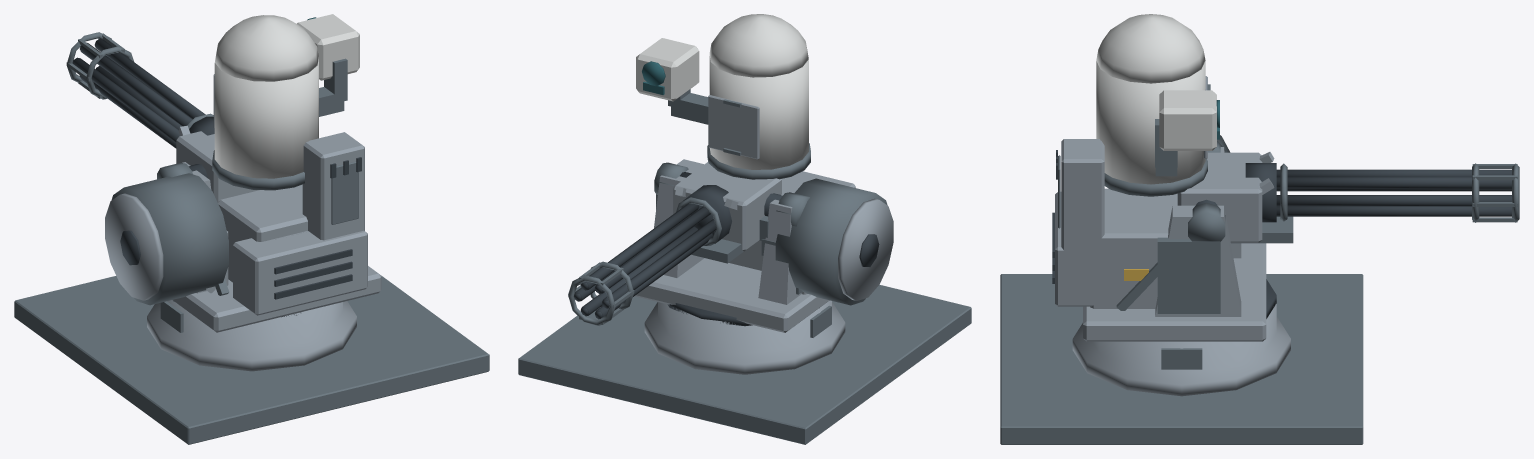
The model's file is MOD_CIWS_U2.fbx.
3 renders of one model, left to right at view 1: azimuth 30°, elevation 25°; view 2: azimuth 150°, elevation 25°; view 3: azimuth 270°, elevation 25°, orthographic. The views are drawn at different scales.
Visible parts, largest first — view 1: MOD_CIWS_U2_Root_Visual_Deck_Grey, TurretPivot_Visual_Naval_Blue_Grey, ElevationPivot_Visual_Medical_White, TurretPivot_Visual_Deck_Grey, CIWSFixedDeckPedestal, BarrelCluster_Visual_Gunmetal, TurretPivot_Visual_Gunmetal, ElevationPivot_Visual_Deck_Grey, ElevationPivot_Visual_Naval_Blue_Grey, BarrelCluster_Visual_Deck_Grey, ElevationPivot_Visual_Gunmetal; view 2: MOD_CIWS_U2_Root_Visual_Deck_Grey, TurretPivot_Visual_Naval_Blue_Grey, ElevationPivot_Visual_Medical_White, CIWSFixedDeckPedestal, TurretPivot_Visual_Deck_Grey, ElevationPivot_Visual_Naval_Blue_Grey, BarrelCluster_Visual_Gunmetal, ElevationPivot_Visual_Deck_Grey, BarrelCluster_Visual_Deck_Grey, ElevationPivot_Visual_Gunmetal, ElevationPivot_Visual_Sensor_Glass, CIWSFixedYawBearing (+1 smaller); view 3: MOD_CIWS_U2_Root_Visual_Deck_Grey, TurretPivot_Visual_Naval_Blue_Grey, ElevationPivot_Visual_Medical_White, BarrelCluster_Visual_Gunmetal, CIWSFixedDeckPedestal, TurretPivot_Visual_Deck_Grey, ElevationPivot_Visual_Naval_Blue_Grey, ElevationPivot_Visual_Deck_Grey, BarrelCluster_Visual_Deck_Grey, ElevationPivot_Visual_Gunmetal.
Part boxes in pixels (x1,y1,x2,y2): MOD_CIWS_U2_Root_Visual_Deck_Grey: [14, 276, 489, 444]; TurretPivot_Visual_Naval_Blue_Grey: [105, 132, 381, 332]; ElevationPivot_Visual_Medical_White: [214, 14, 359, 178]; TurretPivot_Visual_Deck_Grey: [111, 161, 358, 305]; CIWSFixedDeckPedestal: [147, 300, 356, 371]; BarrelCluster_Visual_Gunmetal: [72, 38, 205, 148]; TurretPivot_Visual_Gunmetal: [120, 157, 361, 299]; ElevationPivot_Visual_Deck_Grey: [164, 58, 347, 190]; ElevationPivot_Visual_Naval_Blue_Grey: [176, 74, 259, 202]; BarrelCluster_Visual_Deck_Grey: [66, 32, 213, 128]; ElevationPivot_Visual_Gunmetal: [188, 116, 214, 178]; MOD_CIWS_U2_Root_Visual_Deck_Grey: [518, 284, 971, 444]; TurretPivot_Visual_Naval_Blue_Grey: [634, 159, 893, 332]; ElevationPivot_Visual_Medical_White: [636, 14, 808, 169]; CIWSFixedDeckPedestal: [644, 300, 845, 374]; TurretPivot_Visual_Deck_Grey: [654, 162, 887, 305]; ElevationPivot_Visual_Naval_Blue_Grey: [673, 95, 781, 251]; BarrelCluster_Visual_Gunmetal: [574, 203, 716, 319]; ElevationPivot_Visual_Deck_Grey: [668, 89, 810, 263]; BarrelCluster_Visual_Deck_Grey: [568, 197, 721, 325]; ElevationPivot_Visual_Gunmetal: [680, 172, 782, 243]; ElevationPivot_Visual_Sensor_Glass: [642, 61, 665, 94]; CIWSFixedYawBearing: [667, 303, 752, 326]; MOD_CIWS_U2_Root_Visual_Deck_Grey: [1000, 274, 1363, 444]; TurretPivot_Visual_Naval_Blue_Grey: [1055, 139, 1266, 341]; ElevationPivot_Visual_Medical_White: [1096, 14, 1216, 184]; BarrelCluster_Visual_Gunmetal: [1276, 169, 1511, 216]; CIWSFixedDeckPedestal: [1072, 304, 1290, 396]; TurretPivot_Visual_Deck_Grey: [1058, 135, 1230, 313]; ElevationPivot_Visual_Naval_Blue_Grey: [1177, 76, 1274, 242]; ElevationPivot_Visual_Deck_Grey: [1104, 84, 1293, 243]; BarrelCluster_Visual_Deck_Grey: [1280, 163, 1519, 222]; ElevationPivot_Visual_Gunmetal: [1195, 163, 1276, 222].
Size of the model in its own units: 176 by 188 by 252.
